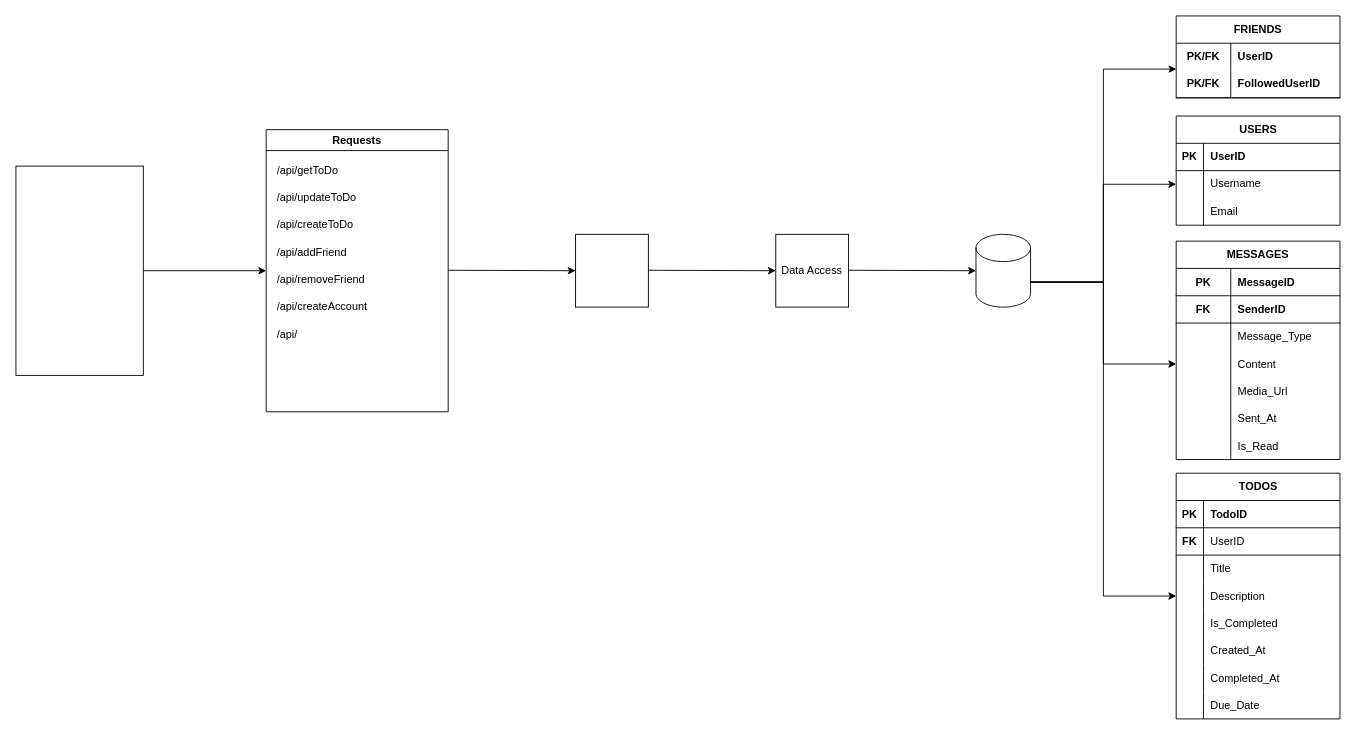
This 1356x735 diagram has some shape labels left out. Each missing label, with the centre of its shape:
DB: the point at 1003,270
Logic: the point at 611,270
UI: the point at 79,270
